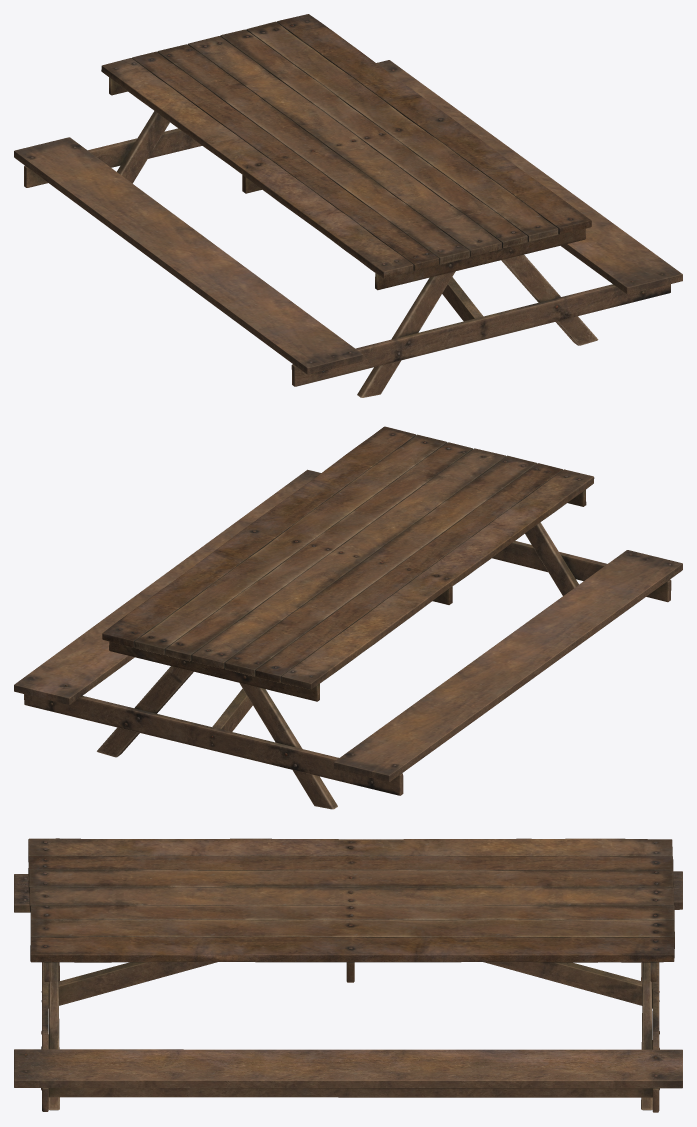
Rendered from wooden_picnic_table_1k.gltf.
3 views of the same model, one above another, from view 1: azimuth 30°, elevation 25°; view 2: azimuth 150°, elevation 25°; view 3: azimuth 270°, elevation 25° (orthographic). The views are drawn at different scales.
Visible parts, largest first — view 1: wooden_picnic_table; view 2: wooden_picnic_table; view 3: wooden_picnic_table.
Part boxes in pixels (x1=…): wooden_picnic_table: x1=14, y1=14, x2=682, y2=397; wooden_picnic_table: x1=14, y1=426, x2=682, y2=809; wooden_picnic_table: x1=14, y1=838, x2=682, y2=1112.
Size of the model in its own units: 2.24 by 0.746 by 3.02.
2 materials, 2 textured.
